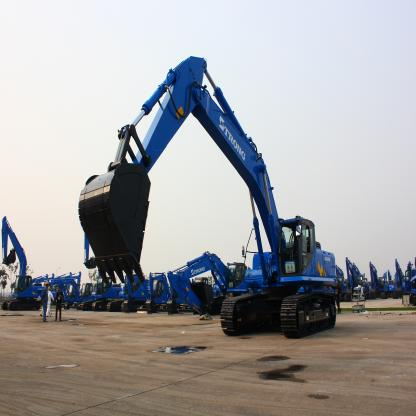excavator: (84, 48, 348, 347), (1, 212, 50, 324)
person: (35, 275, 54, 327), (55, 285, 67, 324)
